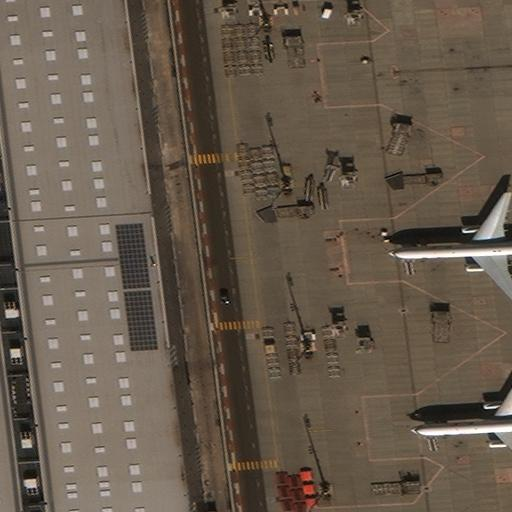Large Civil Transport: (389, 193, 512, 303), (410, 375, 512, 469)
